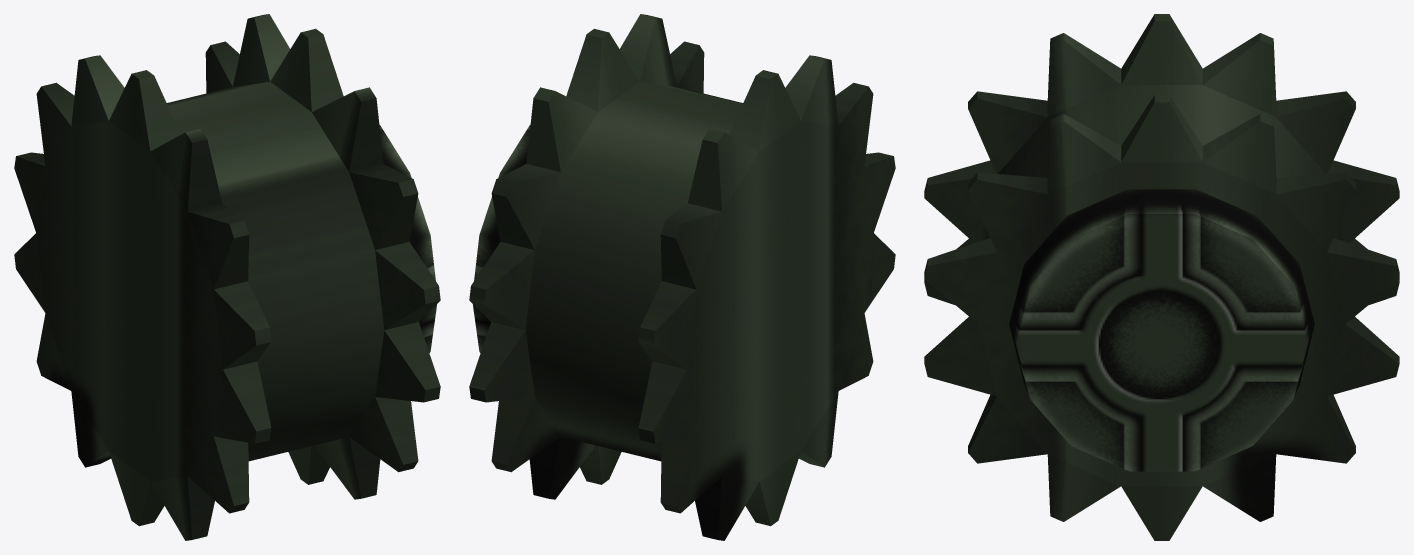
Rendered from JIM_drivhjul_L.obj.
3 views of the same model, side by side, from view 1: azimuth 30°, elevation 25°; view 2: azimuth 150°, elevation 25°; view 3: azimuth 270°, elevation 25° (orthographic).
Parts seen in each view (by area): view 1: submesh0; view 2: submesh0; view 3: submesh0.
Boxes of the visible parts, x1,y1,x2,y2 form: submesh0: [14, 14, 440, 540]; submesh0: [469, 14, 895, 540]; submesh0: [924, 14, 1399, 540].
Bounding box in the file's own units: 0.3051 × 0.5566 × 0.5465.
Materials: 1 (1 with a texture image).
